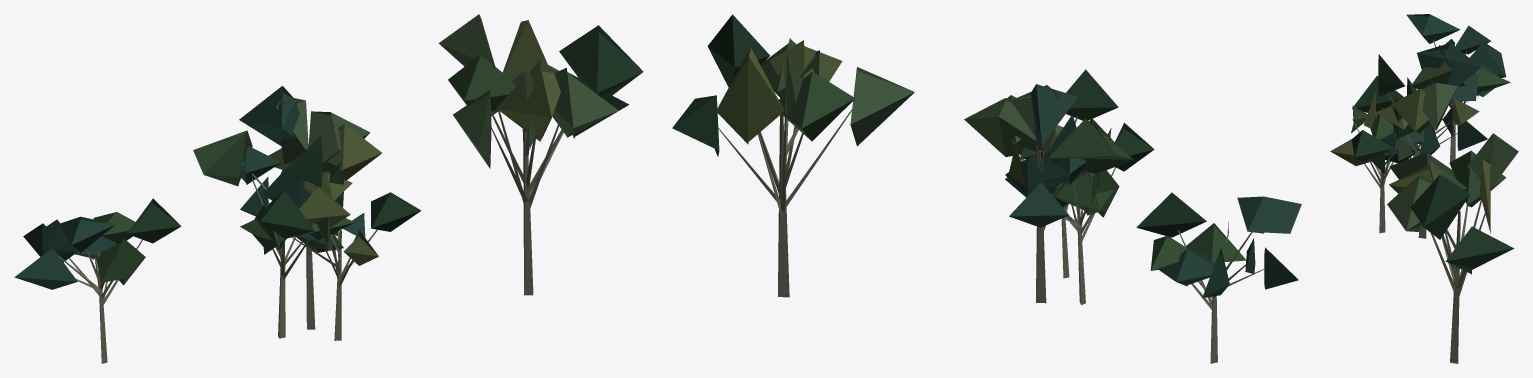
Rendered from forest_20_27.dae.
The picture shows the model from 3 angles, left to right: view 1: azimuth 30°, elevation 25°; view 2: azimuth 150°, elevation 25°; view 3: azimuth 270°, elevation 25°; orthographic projection. The views are drawn at different scales.
Parts seen in each view (by area): view 1: Node; view 2: Node; view 3: Node.
Boxes of the visible parts, bbox=[...] form: Node: bbox=[14, 14, 643, 363]; Node: bbox=[672, 14, 1301, 363]; Node: bbox=[1330, 14, 1518, 363].
Bounding box in the file's own units: 8.22 × 2.71 × 3.49.
